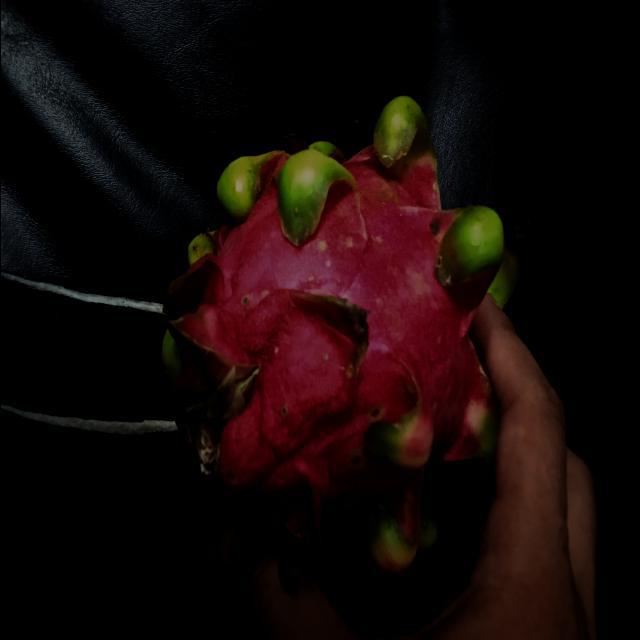do: (156, 94, 535, 604)
